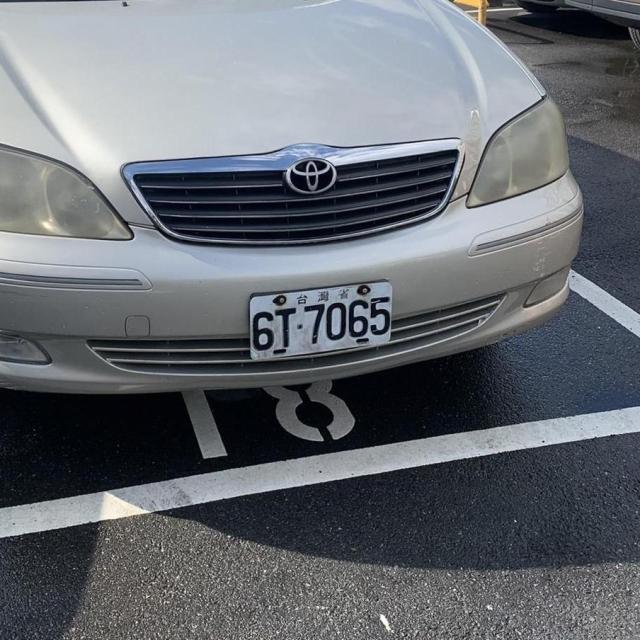W: (237, 274, 398, 366)
